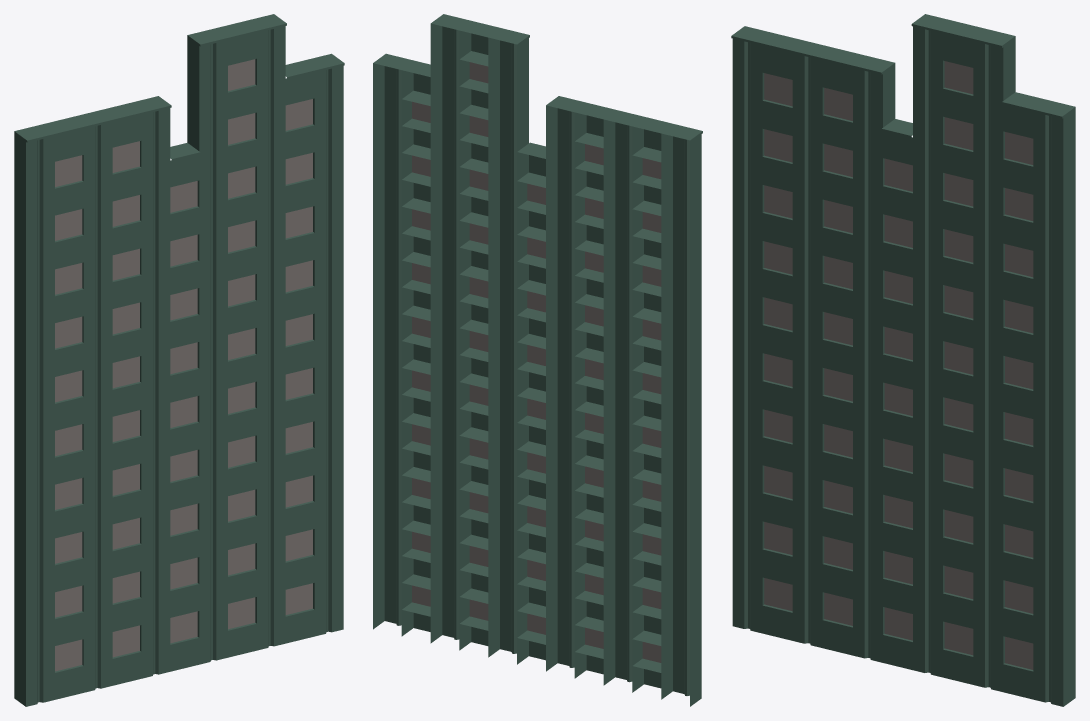
3 renders of one model, left to right at view 1: azimuth 30°, elevation 25°; view 2: azimuth 150°, elevation 25°; view 3: azimuth 330°, elevation 25°, orthographic. The views are drawn at different scales.
Parts seen in each view (by area): view 1: Edificio.001; view 2: Edificio.001; view 3: Edificio.001.
Part boxes in pixels (bbox=[...]): Edificio.001: bbox=[14, 14, 344, 706]; Edificio.001: bbox=[373, 14, 702, 706]; Edificio.001: bbox=[731, 14, 1075, 706].
Bounding box in the file's own units: 3063 × 5726 × 217.
